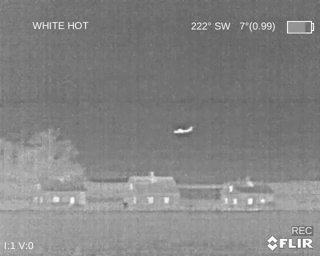AIRPLANE: (172, 125, 194, 135)
